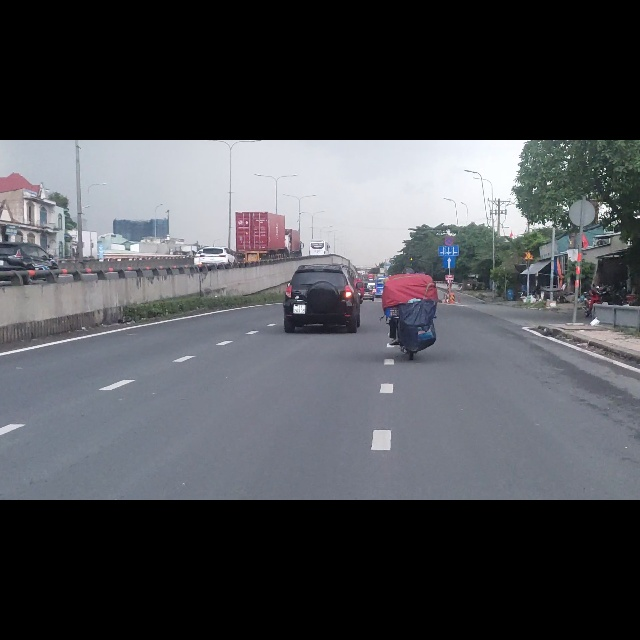bien_cam: (443, 206, 455, 228), (445, 171, 454, 187), (524, 198, 533, 213)
